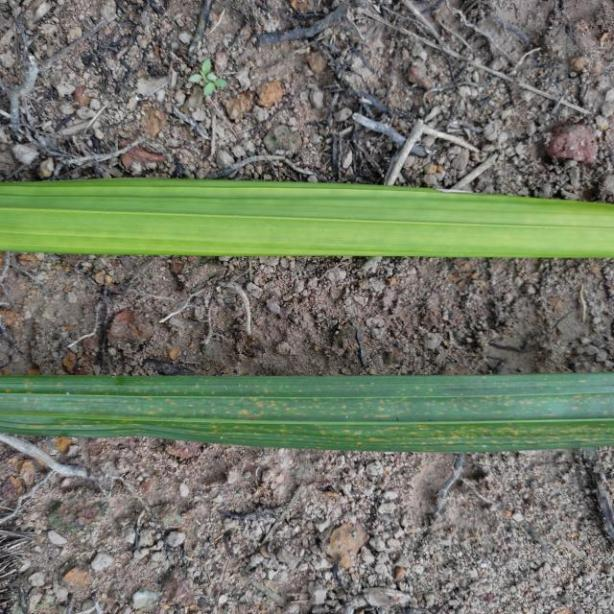nitrogen: (1, 371, 614, 451), (0, 178, 614, 254)
